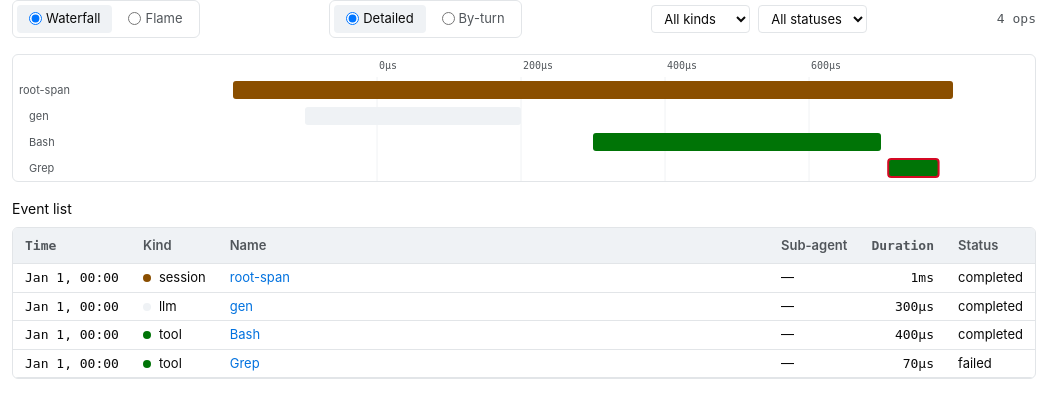
TraceTab › hides the By-turn sub-toggle when the flame view is active
This screenshot has width=1048, height=396.
Click the radio button labelled "Flame" at (135, 19), box top-left (128, 12), bottom-right (142, 25)
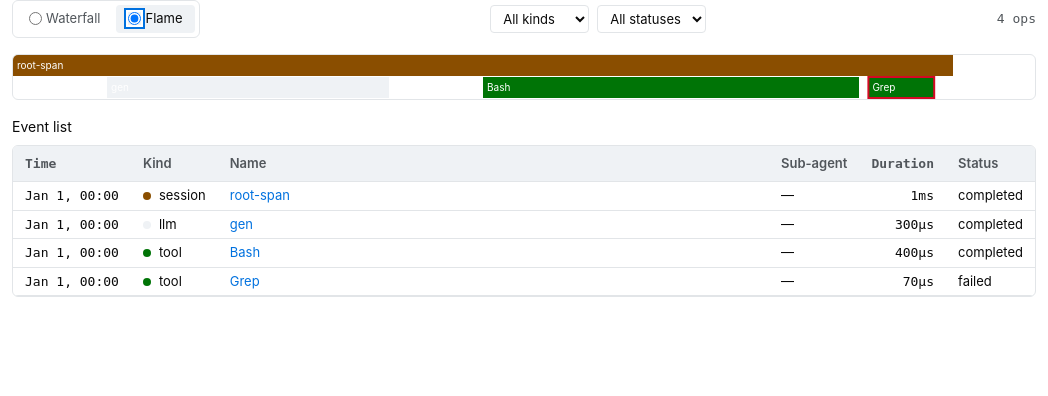
expect the text "By-turn" is gone: met
expect the text "Detailed" is gone: met
